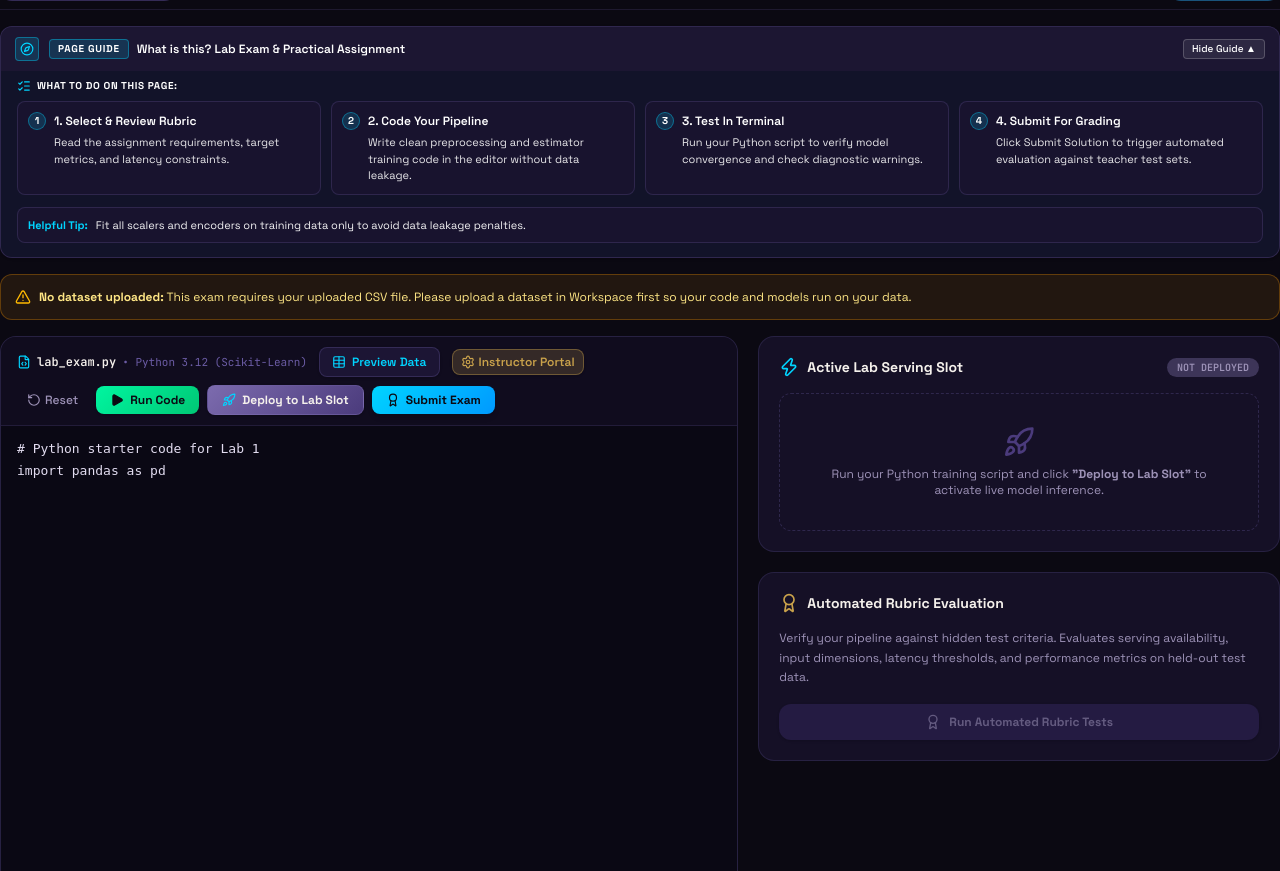
Test: University Lab Exam ClassroomHub › runs automated rubric benchmark tests and displays criteria results
Click the button titled "Deploy newly trained model": (286, 400) [207,385,364,415]
(page scrolled)
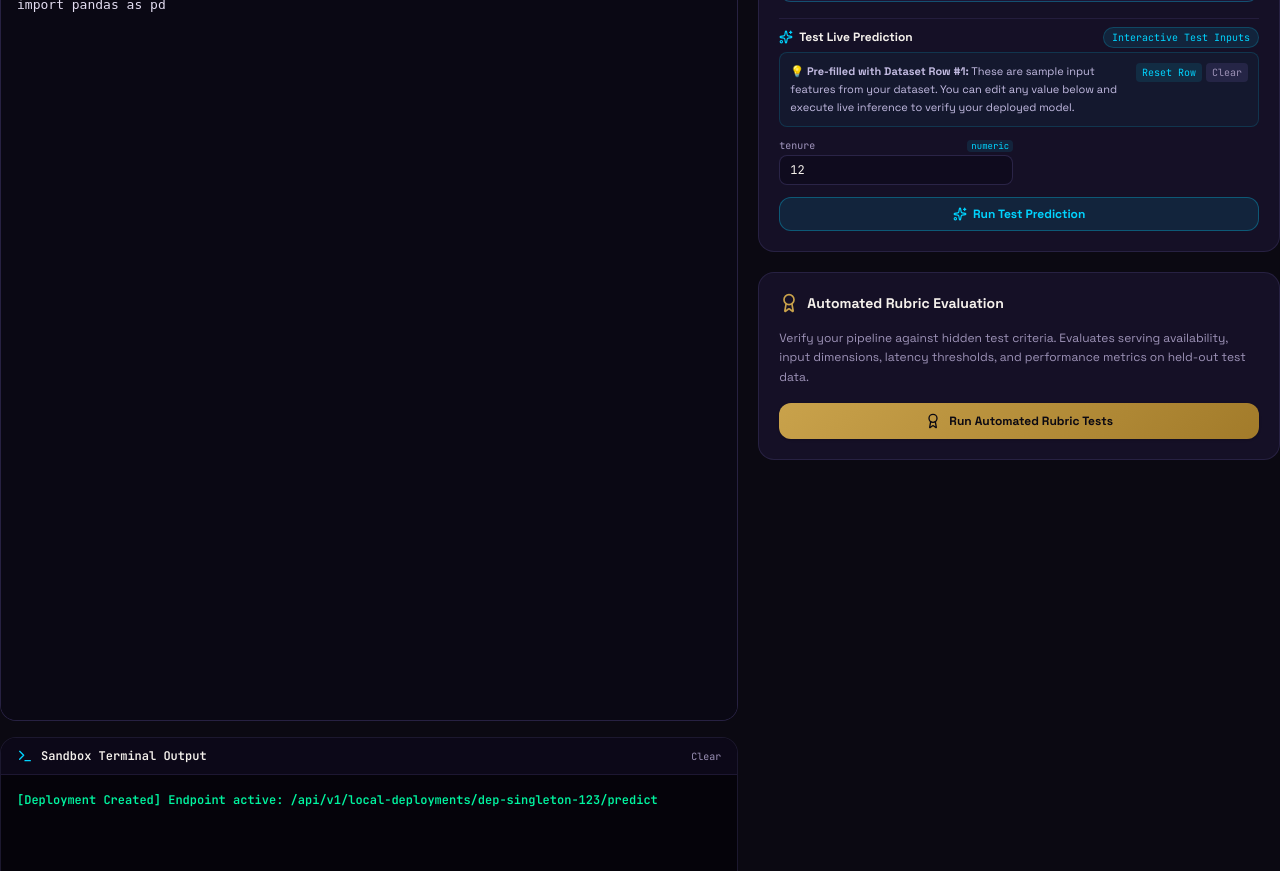
Click the button "Run Automated Rubric Tests": (1019, 421) [779,403,1259,439]
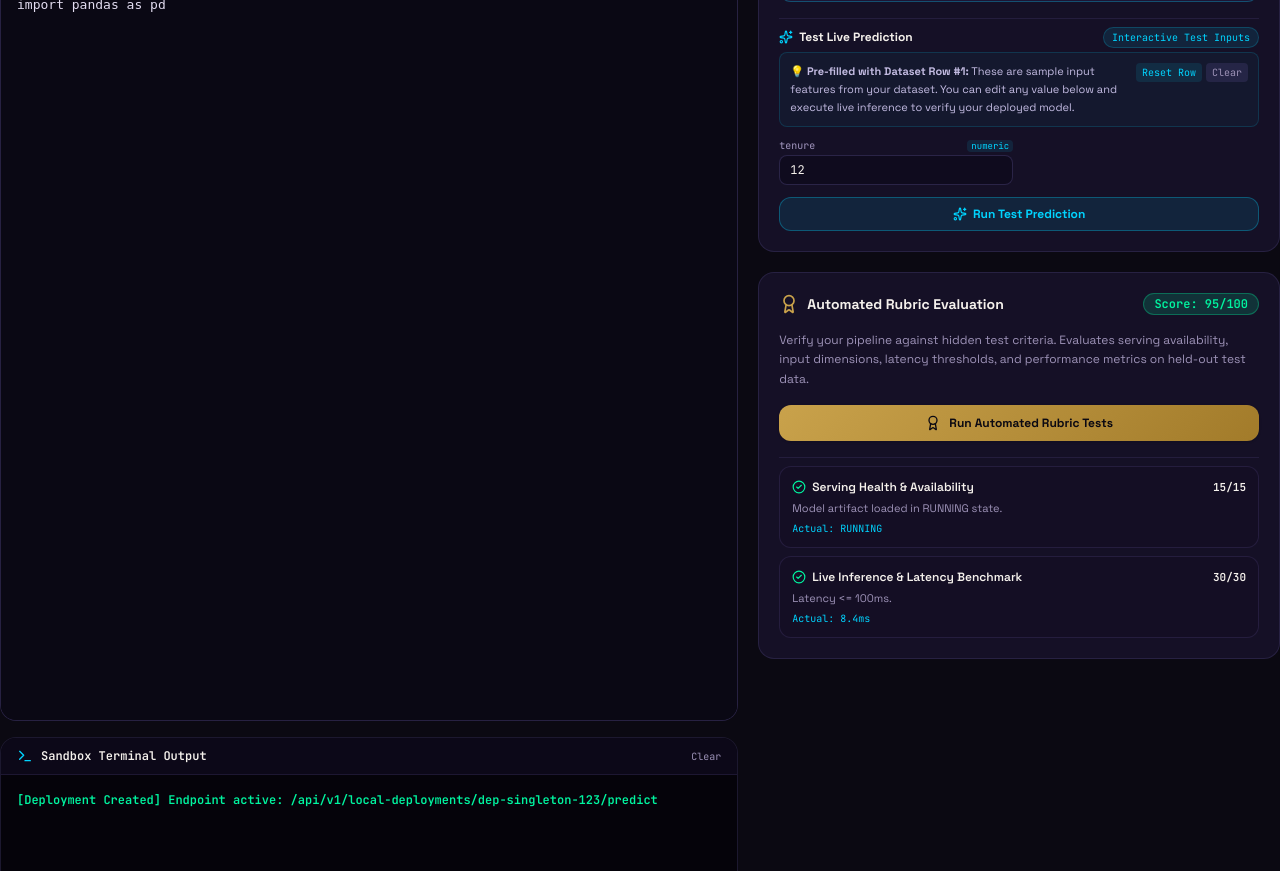
Now the text "Score: 95/100" is shown, box [1143,293,1259,315]
Now the text "Serving Health & Availability" is shown, box [812,479,974,495]
Now the text "Live Inference & Latency Benchmark" is shown, box [812,569,1022,585]
